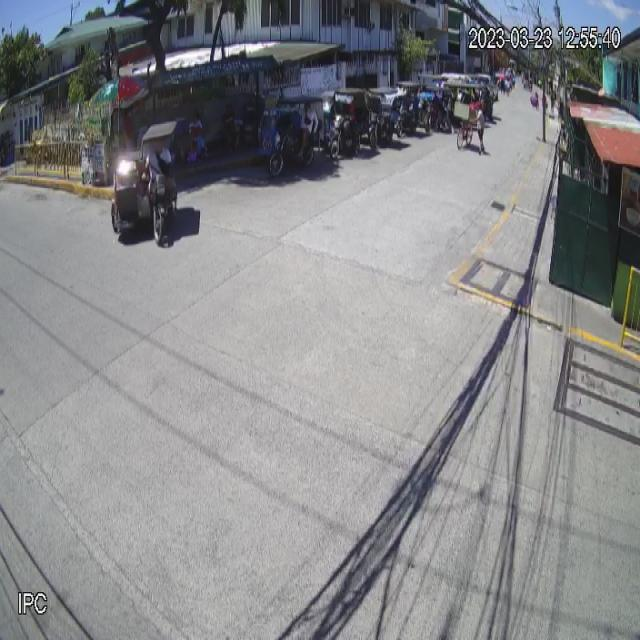Tricycle: (110, 120, 178, 256)
